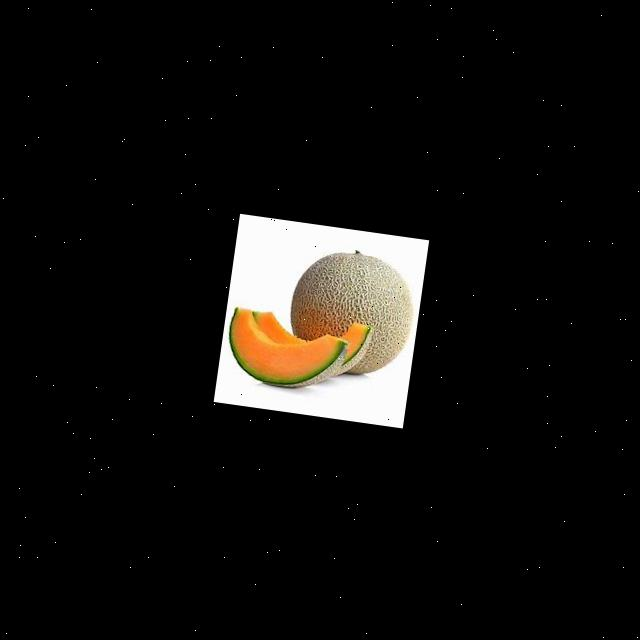Hami Melon: (284, 245, 418, 377), (220, 304, 352, 396)
